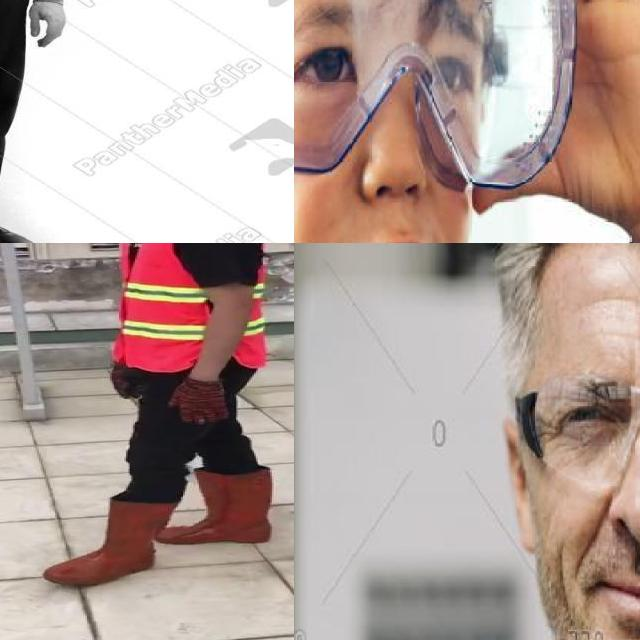boots: (42, 497, 176, 586), (170, 470, 272, 546)
face_nomask: (294, 22, 483, 243), (526, 379, 640, 640)
glasses: (294, 0, 578, 183), (514, 374, 640, 477)
hand_noglove: (486, 0, 640, 219), (14, 0, 72, 52)
head_nohelmet: (493, 243, 640, 319)
person: (39, 243, 276, 588), (0, 0, 75, 243)
vest: (113, 243, 270, 370)
